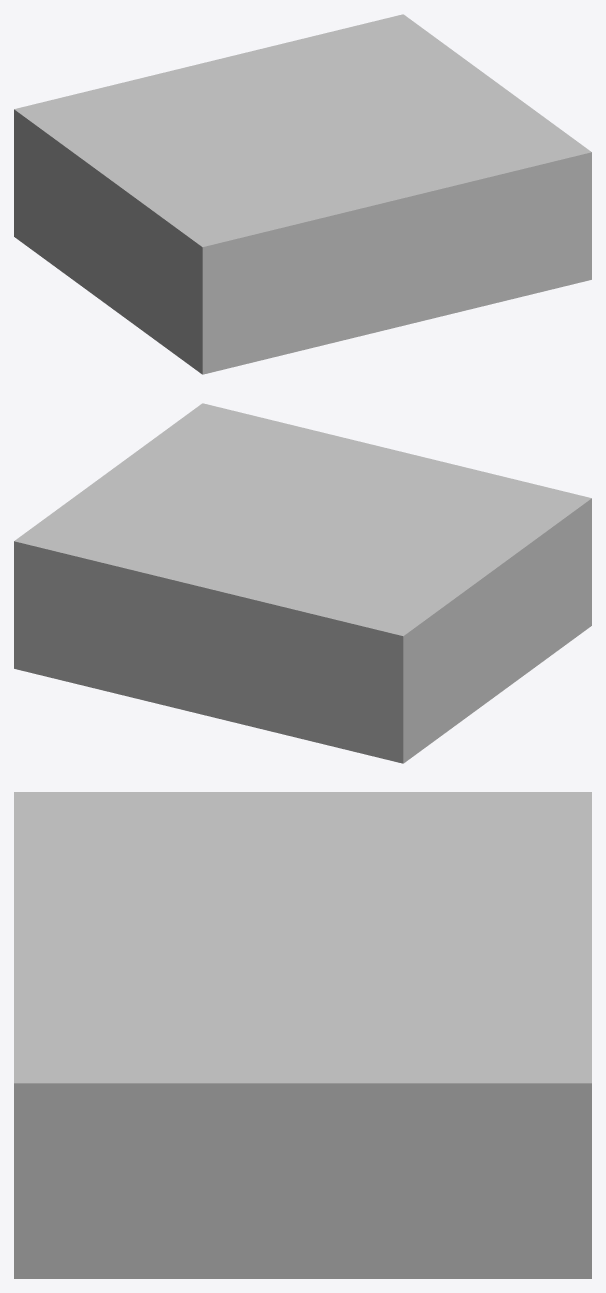
3 views of the same model, one above another, from view 1: azimuth 30°, elevation 25°; view 2: azimuth 150°, elevation 25°; view 3: azimuth 270°, elevation 25° (orthographic). The views are drawn at different scales.
Size of the model in its own units: 0.0031 by 0.00097 by 0.0026.
1 material, 1 textured.
